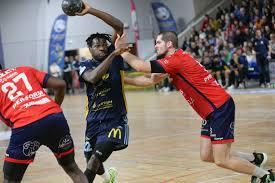ballon_handball: (60, 0, 85, 17)
